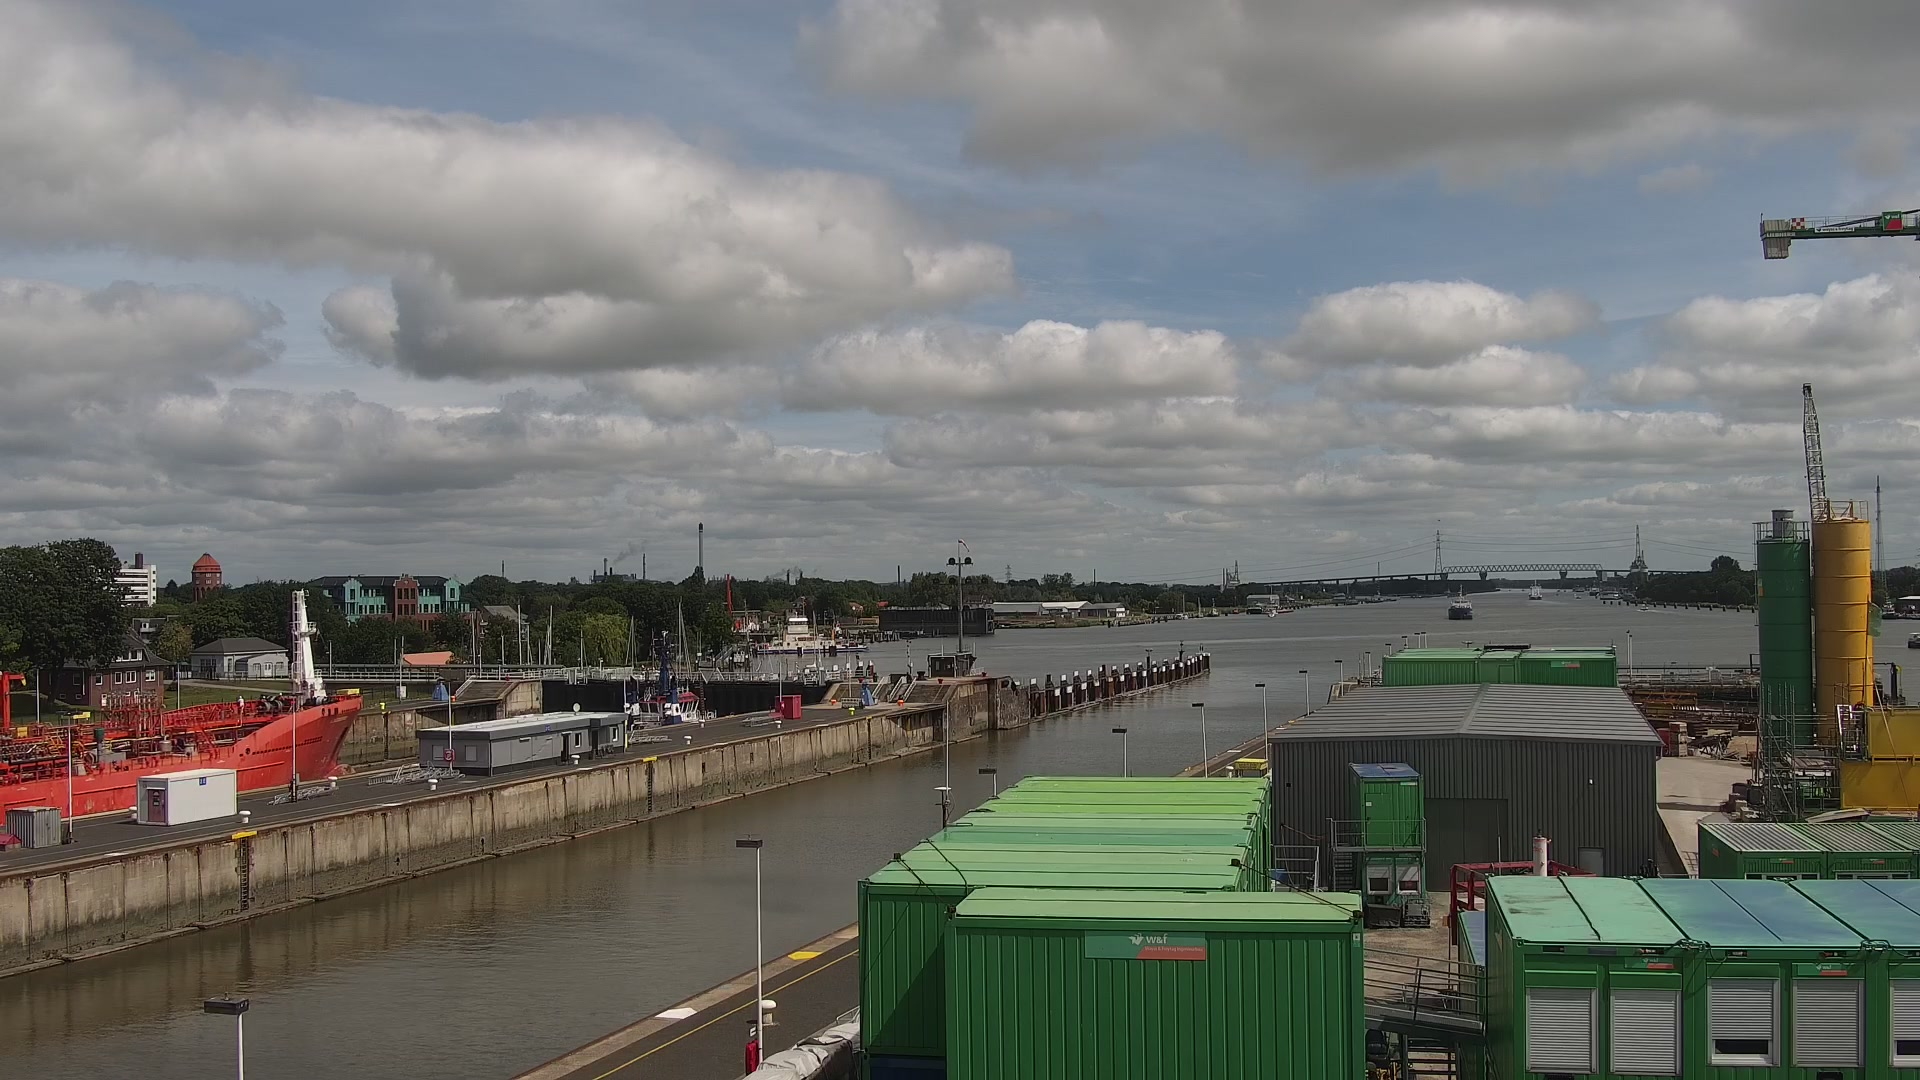human: (237, 694, 245, 715)
sea: (1, 587, 363, 825), (622, 627, 717, 731), (754, 610, 866, 655), (1448, 584, 1472, 620), (1178, 593, 1189, 619), (1528, 578, 1542, 600), (1881, 600, 1896, 618), (1193, 595, 1204, 618), (1208, 598, 1218, 617), (1907, 632, 1920, 648), (1589, 584, 1599, 595), (1267, 608, 1277, 617), (1573, 583, 1584, 591), (1639, 603, 1649, 610), (1281, 606, 1293, 612)
